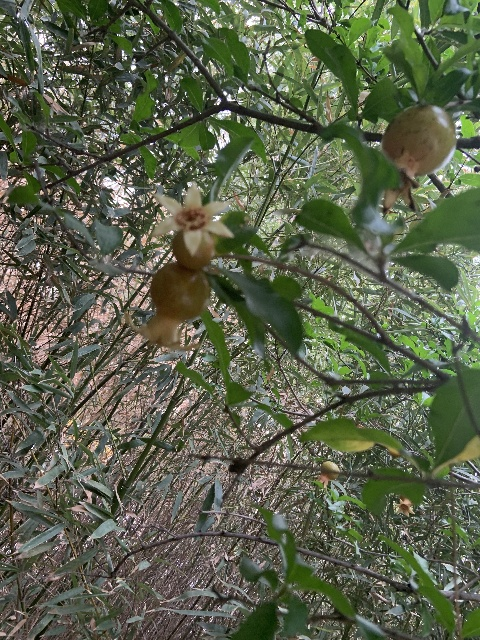early-fruit: (124, 263, 210, 352), (153, 184, 233, 268), (393, 494, 416, 516)
mid-growth: (380, 103, 455, 209), (316, 460, 339, 488)
